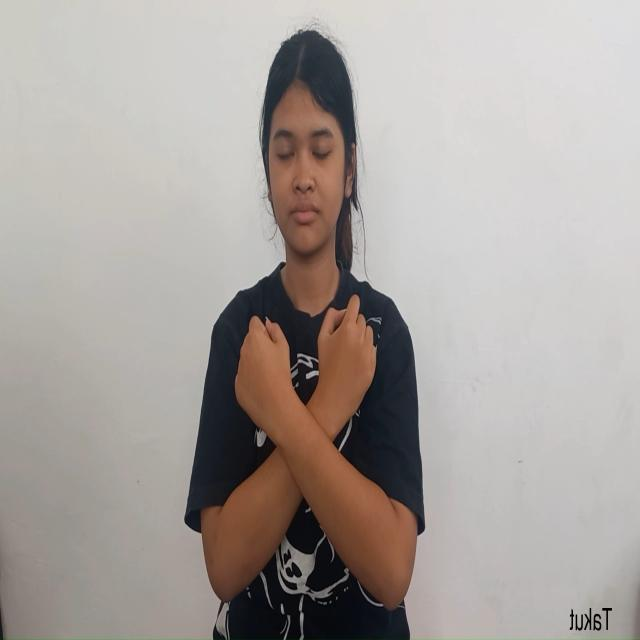Takut -BISINDO-: (219, 294, 398, 614)
